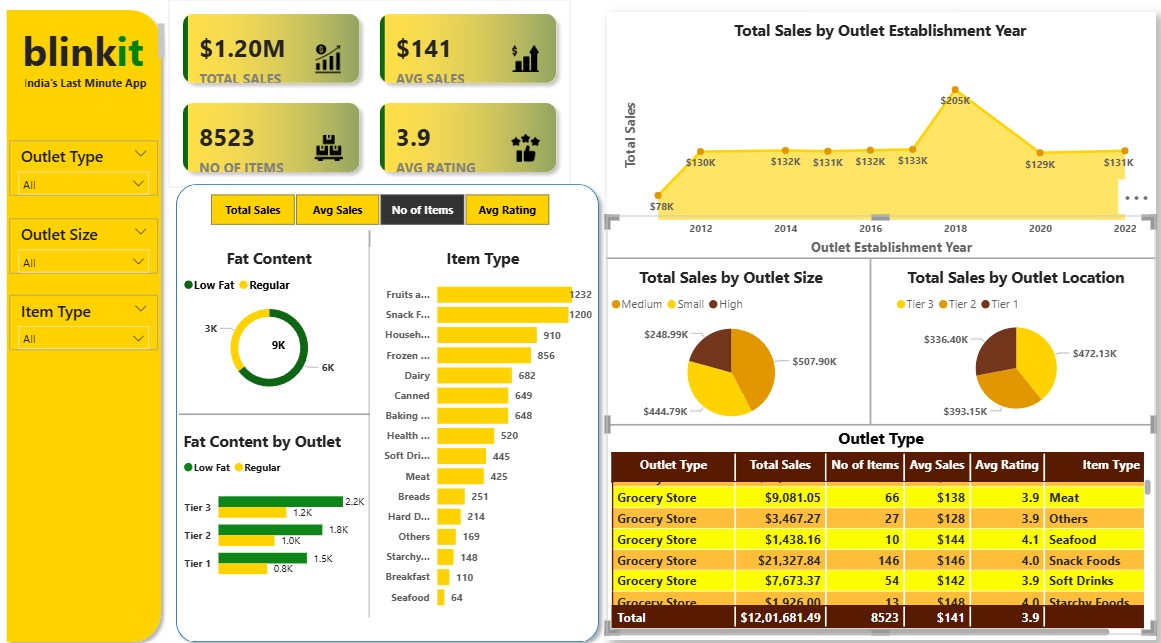

This screenshot's page, from the dashboard's own definition file:
{"tool":"powerbi","page":{"name":"Page 1","canvas":[1400,800],"ordinal":0},"visuals":[{"type":"shape","box":[0,23.4,203.3,777.2],"z":0},{"type":"textbox","box":[259.1,714.3,196.1,59.4],"z":1000},{"type":"textbox","box":[7.2,43.2,196.1,61.2],"z":2000},{"type":"textbox","box":[25.2,104.4,160.1,46.8],"z":3000},{"type":"cardVisual","fields":{"Data":["BlinkIT Grocery Data.Total Sales","BlinkIT Grocery Data.Avg Sales","BlinkIT Grocery Data.No of Items","BlinkIT Grocery Data.Avg Rating"]},"box":[203.3,19.8,482.2,224.9],"z":4000},{"type":"shape","box":[203.3,232.1,525.3,568.5],"z":5000},{"type":"donutChart","title":"Fat Content","fields":{"Y":["BlinkIT Grocery Data.No of Items"],"Category":["BlinkIT Grocery Data.Item Fat Content"]},"box":[215.9,316.6,215.9,187.1],"z":6000},{"type":"slicer","fields":{"Values":["Metrics.Metrics"]},"box":[228.5,246.5,455.2,50.4],"z":7000},{"type":"cardVisual","fields":{"Data":["BlinkIT Grocery Data.No of Items"]},"box":[289.7,399.4,91.8,61.2],"z":8000},{"type":"clusteredBarChart","title":" Fat Content by Outlet","fields":{"Y":["BlinkIT Grocery Data.No of Items"],"Category":["BlinkIT Grocery Data.Outlet Location Type"],"Series":["BlinkIT Grocery Data.Item Fat Content"]},"box":[215.9,536.1,226.7,192.5],"z":9000},{"type":"shape","box":[203.3,296.9,482.2,464.2],"z":10000},{"type":"clusteredBarChart","title":"Item Type","fields":{"Y":["BlinkIT Grocery Data.No of Items"],"Category":["BlinkIT Grocery Data.Item Type"]},"box":[444.4,316.6,271.7,444.4],"z":11000},{"type":"shape","box":[215.9,271.7,228.5,491.2],"z":12000},{"type":"shape","box":[728.7,34.2,658.5,753.8],"z":13000},{"type":"stackedAreaChart","fields":{"Y":["BlinkIT Grocery Data.Total Sales"],"Category":["BlinkIT Grocery Data.Outlet Establishment Year"]},"box":[744.8,43.2,624.3,287.9],"z":14000},{"type":"shape","box":[728.7,84.6,658.5,491.2],"z":15000},{"type":"pieChart","fields":{"Y":["BlinkIT Grocery Data.Total Sales"],"Category":["BlinkIT Grocery Data.Outlet Size"]},"box":[728.7,340,298.7,199.7],"z":16000},{"type":"pieChart","title":"Total Sales by Outlet Location","fields":{"Y":["BlinkIT Grocery Data.Total Sales"],"Category":["BlinkIT Grocery Data.Outlet Location Type"]},"box":[1070.5,340,298.7,188.9],"z":17000},{"type":"shape","box":[804.2,331,482.2,197.9],"z":18000},{"type":"tableEx","title":"Outlet Type","fields":{"Values":["BlinkIT Grocery Data.Outlet Type","BlinkIT Grocery Data.Total Sales","BlinkIT Grocery Data.No of Items","BlinkIT Grocery Data.Avg Sales","BlinkIT Grocery Data.Avg Rating","BlinkIT Grocery Data.Item Type"]},"box":[728.7,532.5,658.5,255.5],"z":19000},{"type":"shape","box":[728.7,278.9,658.5,502],"z":20000},{"type":"slicer","fields":{"Values":["BlinkIT Grocery Data.Outlet Type"]},"box":[12.4,188.1,177.8,66.1],"z":20001},{"type":"slicer","fields":{"Values":["BlinkIT Grocery Data.Outlet Size"]},"box":[12.4,283.2,177.8,66.1],"z":20002},{"type":"slicer","fields":{"Values":["BlinkIT Grocery Data.Item Type"]},"box":[12.4,374.1,177.8,66.1],"z":20003}]}

Visuals, with their boxes on the page's 1400x800 design canvas (x1, y1, x2, y2). These are canvas units, not pixel positions in the 1161x643 screenshot, which may show the page scaled, cropped or inside an application window:
shape: BBox(0, 23, 203, 801)
textbox: BBox(259, 714, 455, 774)
textbox: BBox(7, 43, 203, 104)
textbox: BBox(25, 104, 185, 151)
cardVisual - BlinkIT Grocery Data.Total Sales x BlinkIT Grocery Data.Avg Sales: BBox(203, 20, 686, 245)
shape: BBox(203, 232, 729, 801)
"Fat Content" donutChart: BBox(216, 317, 432, 504)
slicer - Metrics.Metrics: BBox(228, 246, 684, 297)
cardVisual - BlinkIT Grocery Data.No of Items: BBox(290, 399, 382, 461)
" Fat Content by Outlet" clusteredBarChart: BBox(216, 536, 443, 729)
shape: BBox(203, 297, 686, 761)
"Item Type" clusteredBarChart: BBox(444, 317, 716, 761)
shape: BBox(216, 272, 444, 763)
shape: BBox(729, 34, 1387, 788)
stackedAreaChart - BlinkIT Grocery Data.Total Sales x BlinkIT Grocery Data.Outlet Establishment Year: BBox(745, 43, 1369, 331)
shape: BBox(729, 85, 1387, 576)
pieChart - BlinkIT Grocery Data.Total Sales x BlinkIT Grocery Data.Outlet Size: BBox(729, 340, 1027, 540)
"Total Sales by Outlet Location" pieChart: BBox(1070, 340, 1369, 529)
shape: BBox(804, 331, 1286, 529)
"Outlet Type" tableEx: BBox(729, 532, 1387, 788)
shape: BBox(729, 279, 1387, 781)
slicer - BlinkIT Grocery Data.Outlet Type: BBox(12, 188, 190, 254)
slicer - BlinkIT Grocery Data.Outlet Size: BBox(12, 283, 190, 349)
slicer - BlinkIT Grocery Data.Item Type: BBox(12, 374, 190, 440)
